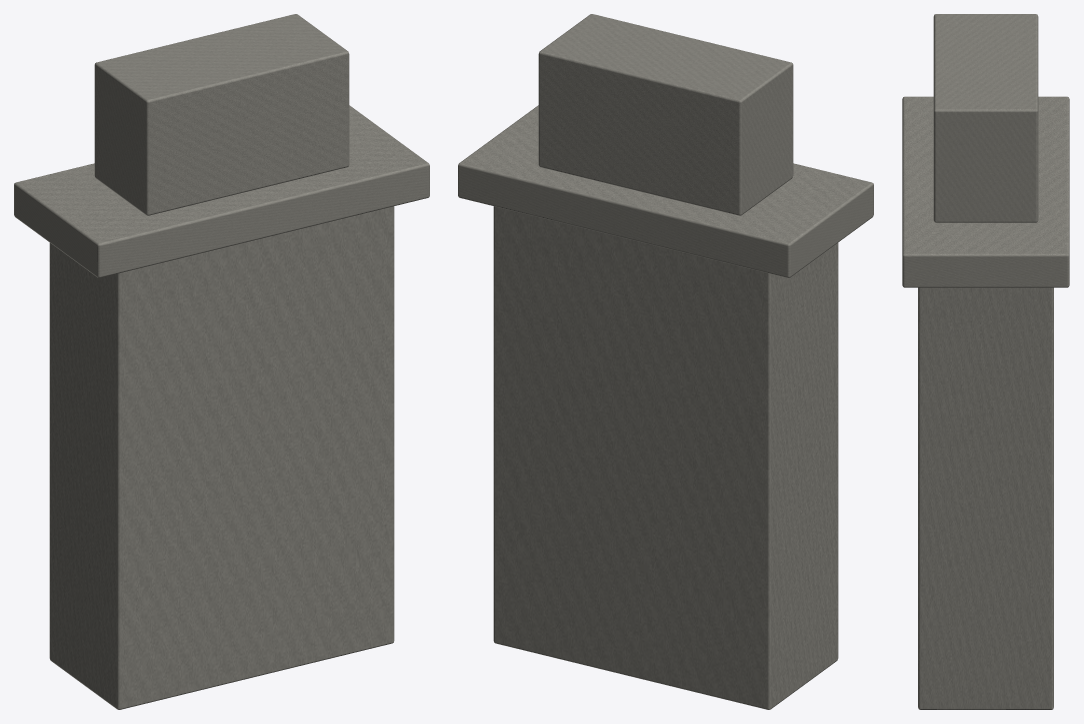
Rendered from adventurers-tavern-and-guild-hall-chimney-breast-dcf7a89a__24679.glb.
The picture shows the model from 3 angles, left to right: view 1: azimuth 30°, elevation 25°; view 2: azimuth 150°, elevation 25°; view 3: azimuth 270°, elevation 25°; orthographic projection. The views are drawn at different scales.
Parts seen in each view (by area): view 1: chimney-breast; view 2: chimney-breast; view 3: chimney-breast.
Part boxes in pixels (x1,y1,x2,y2): chimney-breast: (14, 14, 429, 709); chimney-breast: (458, 14, 873, 709); chimney-breast: (902, 14, 1069, 709).
Size of the model in its own units: 1.8 by 3.08 by 0.8002.
1 material, 1 textured.
